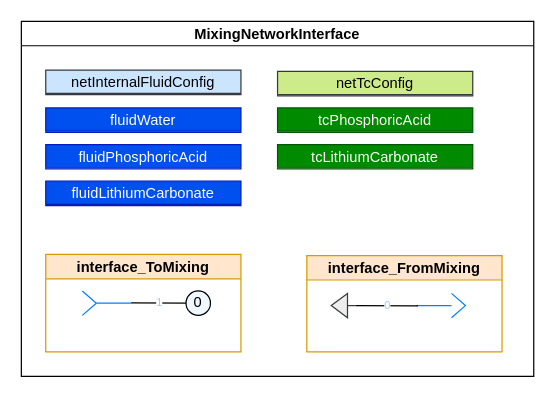
Some shapes in this 555 by 398 pixel diagram are drawn without their labels. The shapes that lost their labels are listed below. From the top down, each one's centre as x and y in pixels, then its label:
At (x=106, y=302): "external_demand".
At (x=440, y=305): "external_supply".
